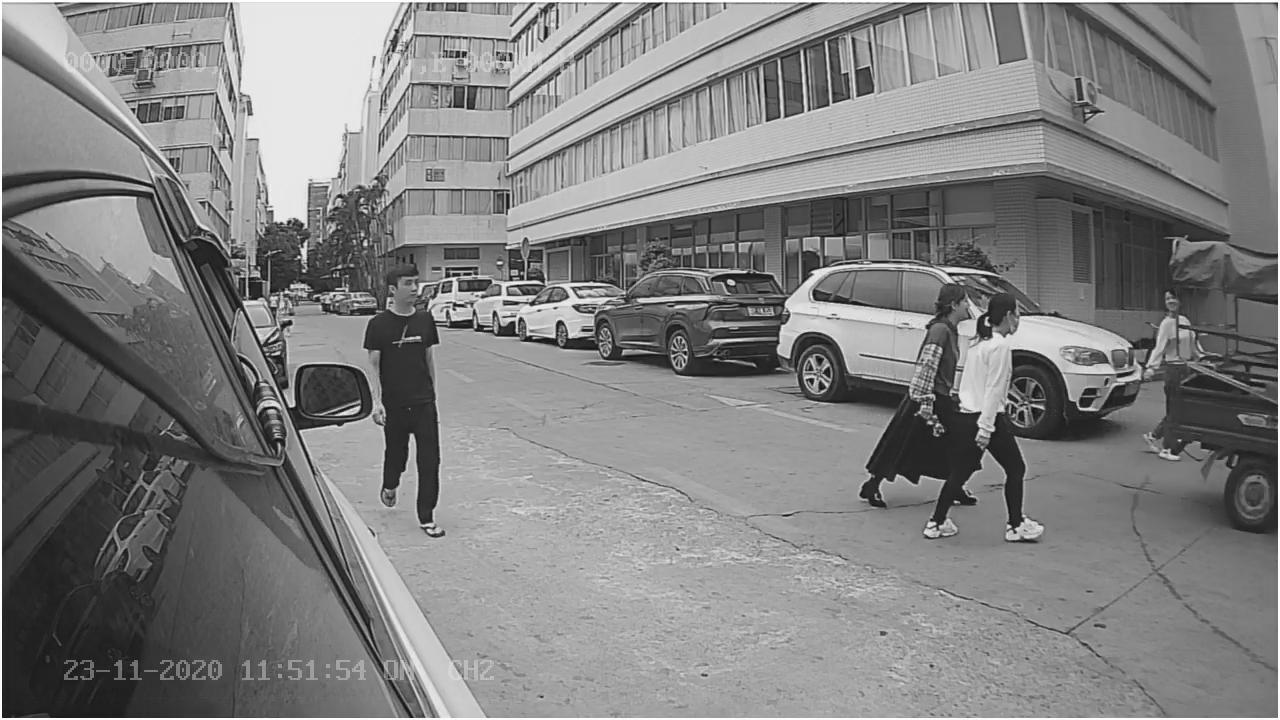person: (926, 279, 1042, 541), (367, 255, 450, 537)
